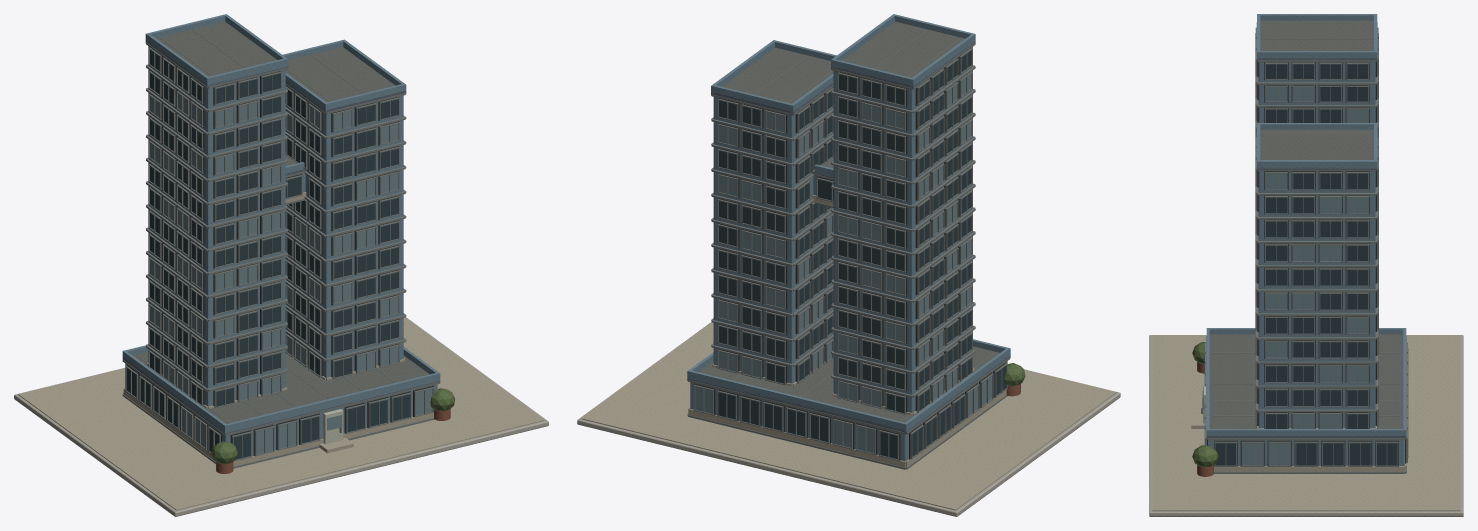
Rendered from EXP_TOWER_TWINS.glb.
The picture shows the model from 3 angles, left to right: view 1: azimuth 30°, elevation 25°; view 2: azimuth 150°, elevation 25°; view 3: azimuth 270°, elevation 25°; orthographic projection. The views are drawn at different scales.
Parts seen in each view (by area): view 1: EXP_TOWER_TWINS_Visual; view 2: EXP_TOWER_TWINS_Visual; view 3: EXP_TOWER_TWINS_Visual.
Part boxes in pixels (x1,y1,x2,y2): EXP_TOWER_TWINS_Visual: (14,14,548,516); EXP_TOWER_TWINS_Visual: (577,14,1120,516); EXP_TOWER_TWINS_Visual: (1149,14,1463,516).
Size of what is drawn, in the model's own units: 7.92 by 7.62 by 5.92.
Materials: 12 (8 with a texture image).
